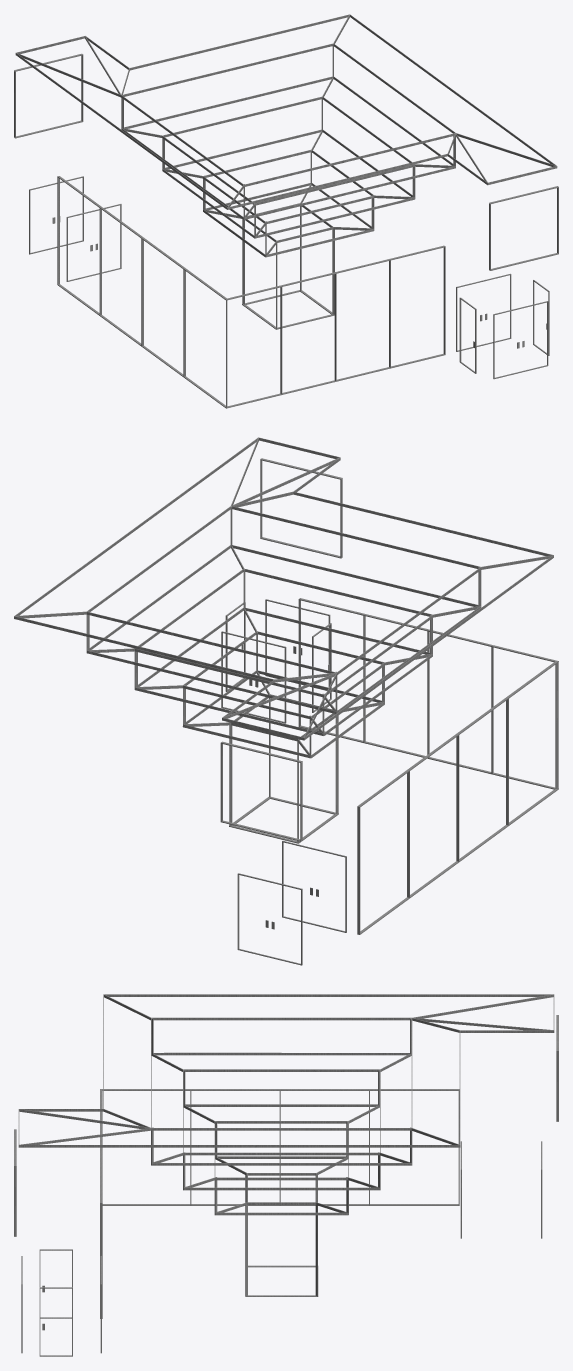
File: mullions.glb
3 views of the same model, one above another, from view 1: azimuth 30°, elevation 25°; view 2: azimuth 150°, elevation 25°; view 3: azimuth 270°, elevation 25° (orthographic). The views are drawn at different scales.
Visible parts, largest first — view 1: mullions; view 2: mullions; view 3: mullions.
Boxes of the visible parts, box(x1,y1,x2,y2) form: mullions: box(14, 14, 558, 408); mullions: box(14, 437, 558, 965); mullions: box(14, 994, 558, 1356).
Bounding box in the file's own units: 34.33 × 22.13 × 51.54.
1 material, 1 textured.
